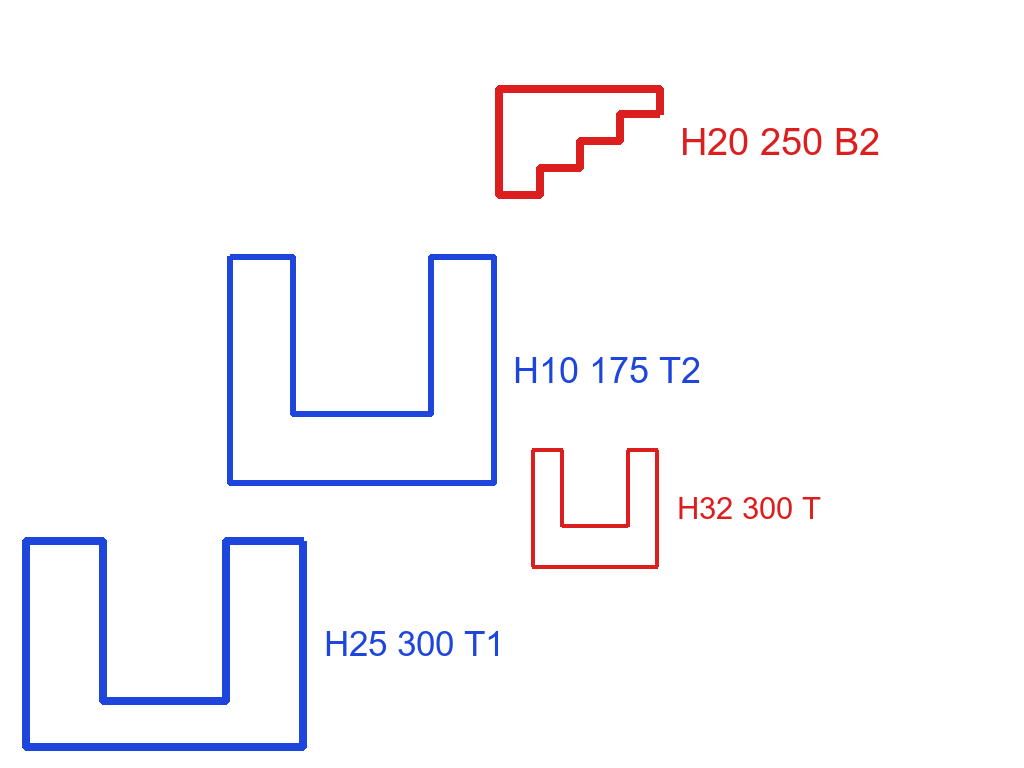shape: (225, 251, 498, 489), (19, 535, 310, 753), (493, 82, 666, 201), (528, 446, 661, 570)
text: (678, 126, 882, 157), (511, 355, 703, 385), (322, 629, 506, 658), (675, 495, 823, 521)
